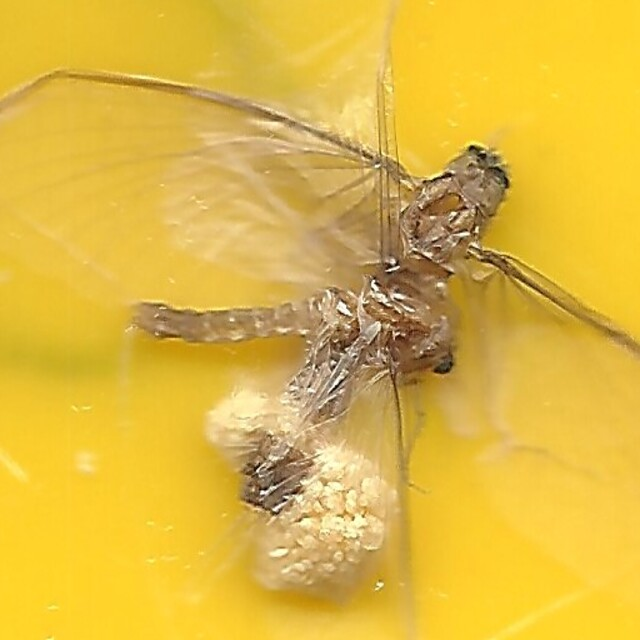Ephemeroptera: (248, 139, 515, 501), (125, 292, 461, 375)
